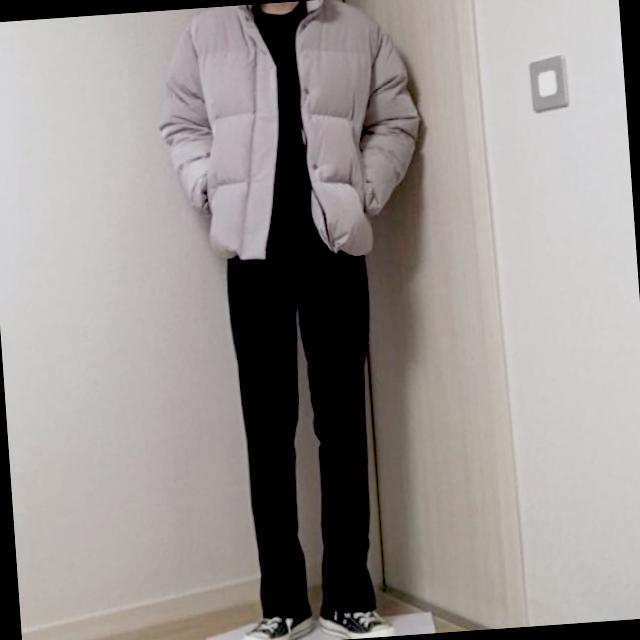padding: (148, 0, 426, 266)
slacks: (223, 218, 392, 620)
